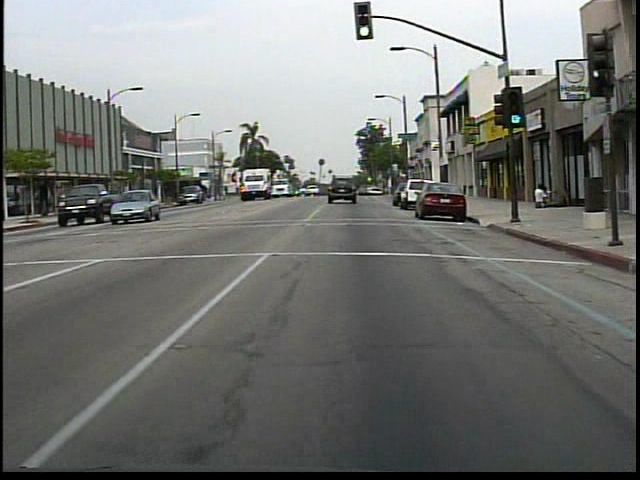person: (530, 182, 547, 211)
